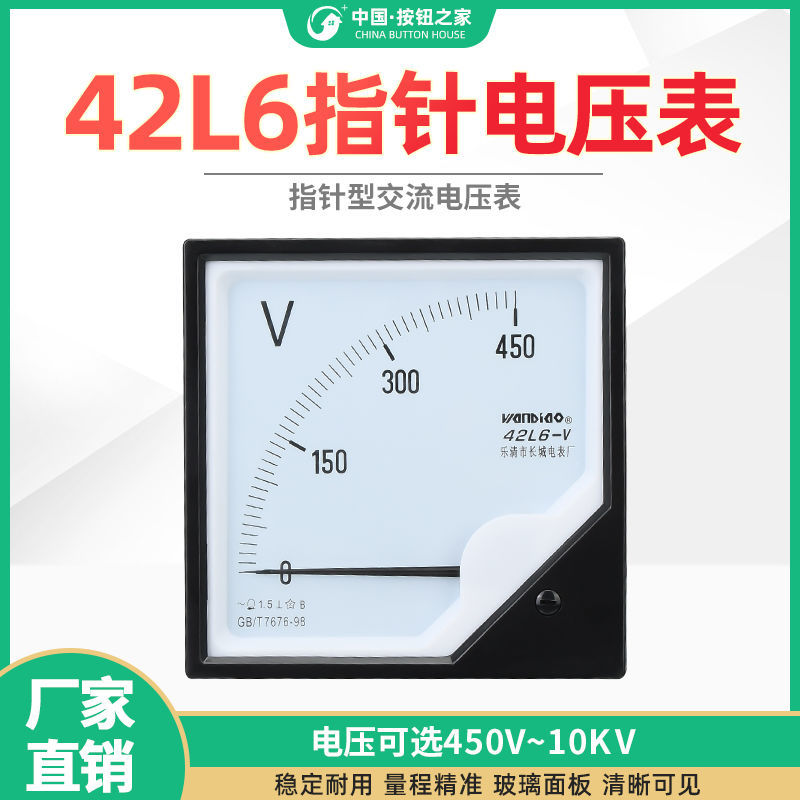pointer: (200, 255, 603, 662)
